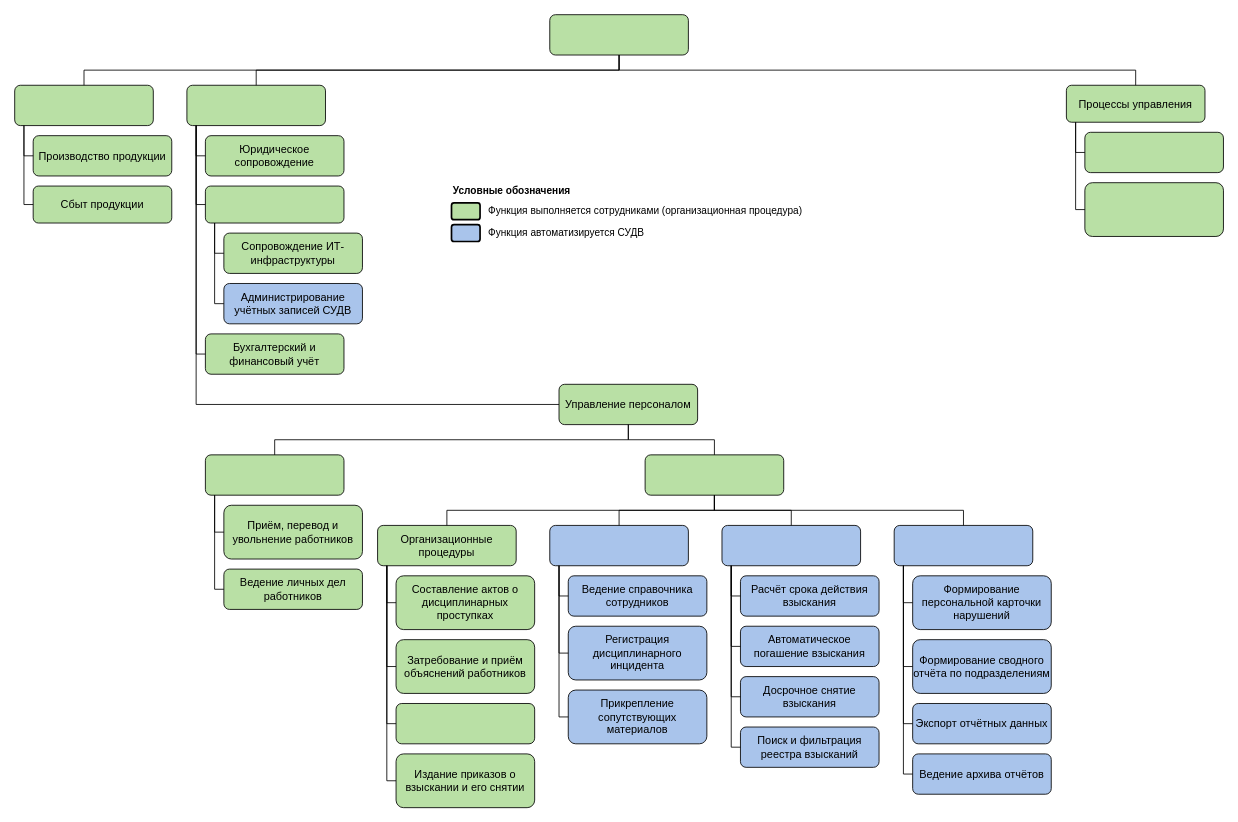
The diagram is 1238 pixels wide and 822 high, and some of its shapes have lost their labels. Each missing label, with the box of its shape:
Деятельность ООО «Апельсин»: (549, 14, 688, 55)
ИТ-обеспечение: (205, 185, 344, 223)
Кадровое делопроизводство: (205, 454, 344, 495)
Контроль деятельности подразделений: (1084, 182, 1223, 236)
Контроль статусов и сроков: (721, 525, 861, 566)
Обеспечивающие бизнес-процессы: (186, 84, 326, 126)
Основные бизнес-процессы: (14, 84, 153, 126)
Принятие решения о взыскании: (395, 703, 535, 744)
Стратегическое планирование: (1084, 131, 1223, 173)
Управление трудовой дисциплиной: (644, 454, 784, 495)
Учёт сотрудников и нарушений: (549, 525, 688, 566)
Формирование отчётности: (893, 525, 1033, 566)
